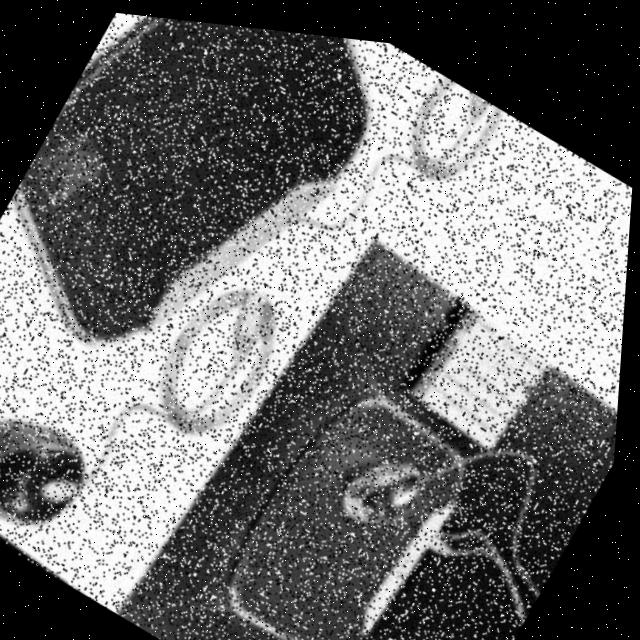mause: (0, 345, 158, 577), (276, 391, 454, 587)
